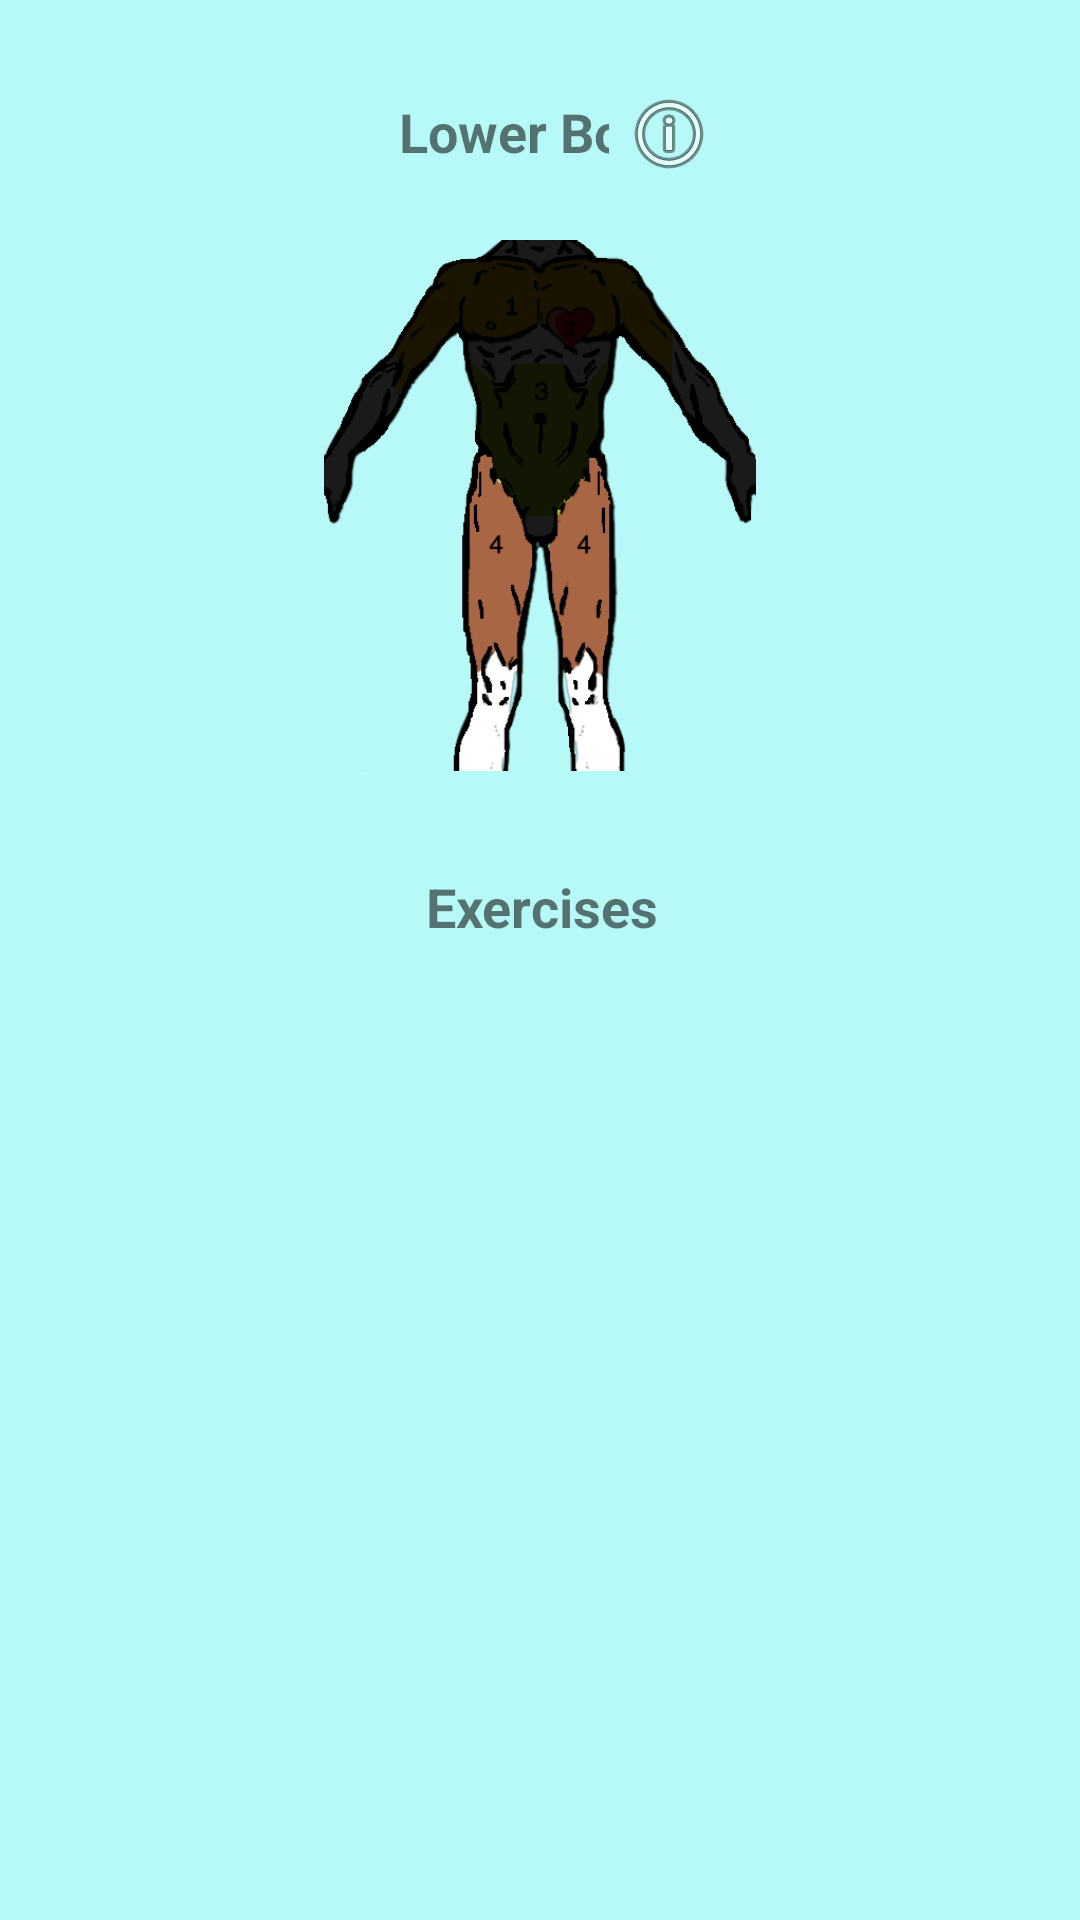

Screen size 1080 x 1920. Icon name, then its center in pixels as [x,y]:
info details: [669,134]
